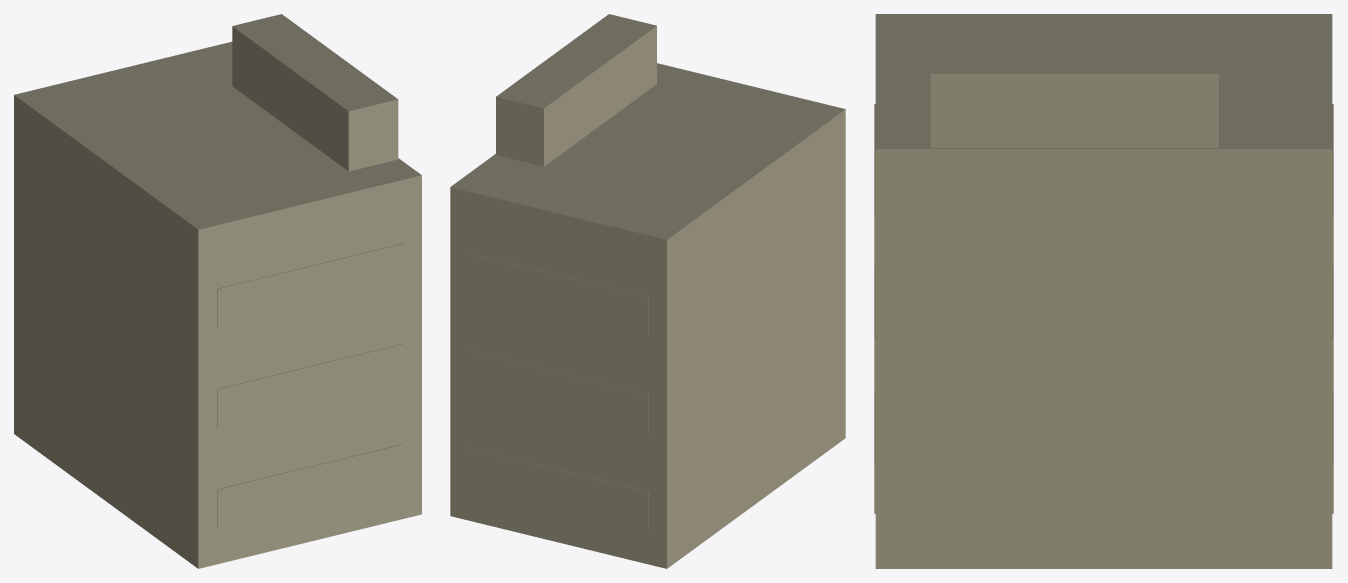
Rendered from bay-townhouse-yellow.far-facades-v2.lod2.glb.
3 renders of one model, left to right at view 1: azimuth 30°, elevation 25°; view 2: azimuth 150°, elevation 25°; view 3: azimuth 270°, elevation 25°, orthographic. The views are drawn at different scales.
Visible parts, largest first — view 1: bay-townhouse-yellow; view 2: bay-townhouse-yellow; view 3: bay-townhouse-yellow.
Part boxes in pixels (x1,y1,x2,y2): bay-townhouse-yellow: (14,14,421,568); bay-townhouse-yellow: (450,14,845,568); bay-townhouse-yellow: (874,14,1333,568).
Size of the model in its own units: 7 by 11.95 by 10.06.
